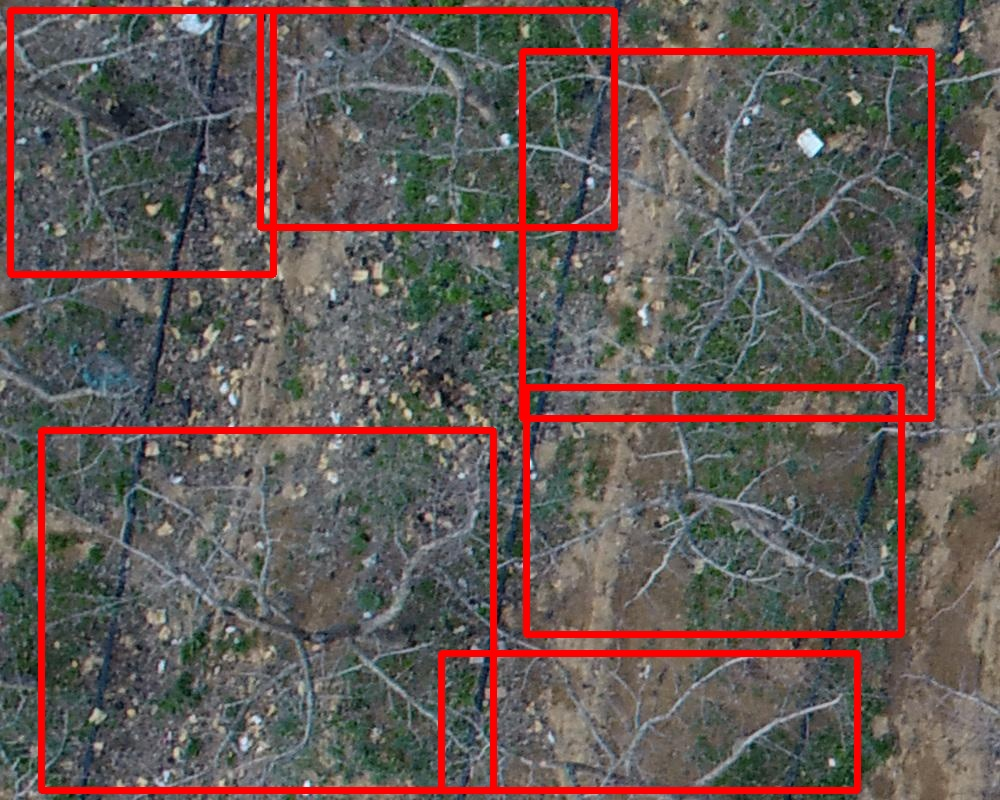apple: (41, 430, 493, 790), (522, 51, 931, 418), (526, 387, 901, 634), (260, 10, 614, 227), (10, 10, 273, 274), (441, 653, 857, 790)
